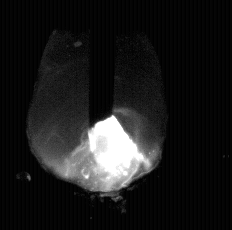arame: (88, 0, 115, 127)
poca: (28, 0, 167, 230)
